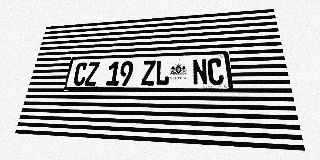1: (106, 61, 121, 86)
9: (119, 61, 134, 86)
C: (207, 58, 224, 85), (72, 62, 88, 86)
L: (155, 60, 169, 85)
N: (192, 59, 208, 85)
Z: (84, 62, 100, 86), (141, 60, 156, 85)
